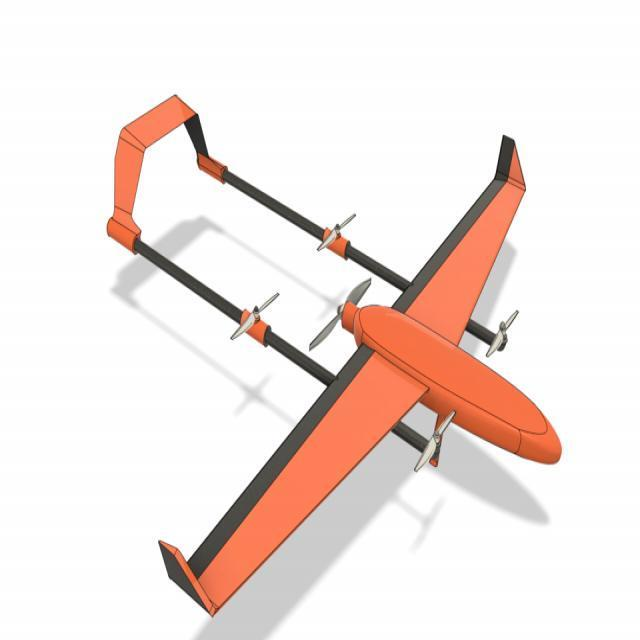UAV: (96, 81, 564, 588)
